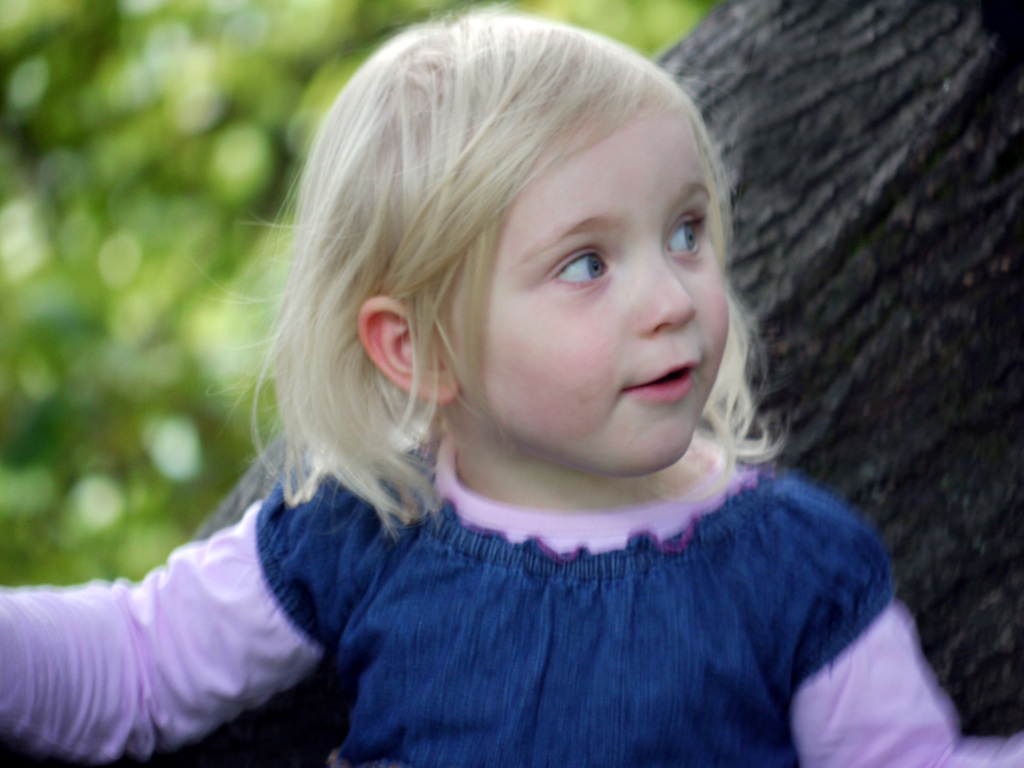Human-face: (436, 108, 735, 477)
